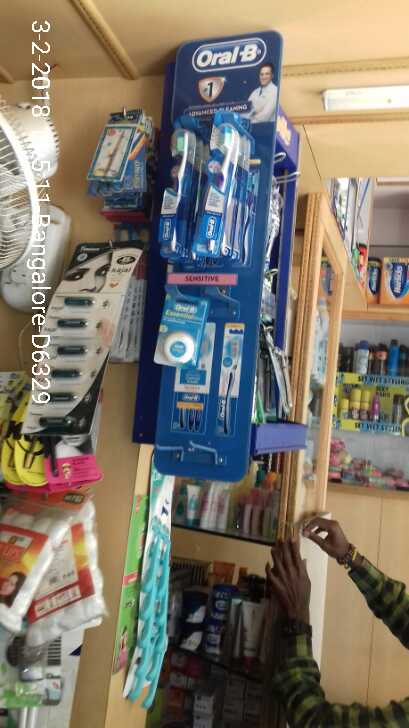oralb: (200, 115, 250, 265)
